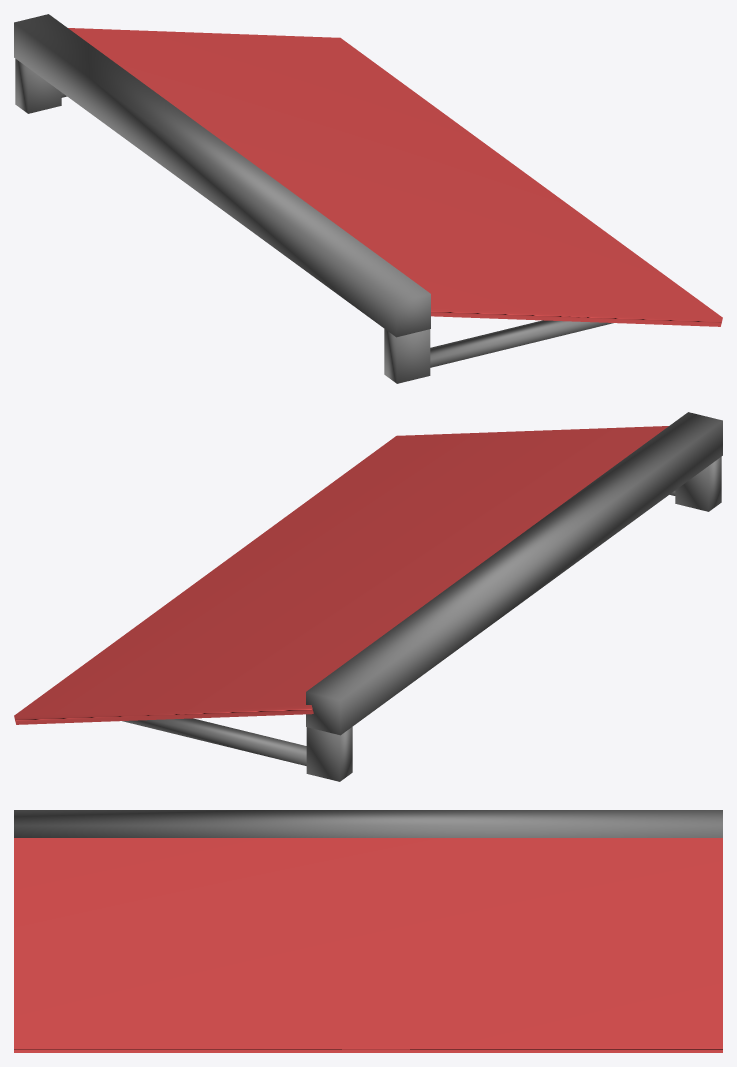
Rendered from awning.fbx.
3 views of the same model, one above another, from view 1: azimuth 30°, elevation 25°; view 2: azimuth 150°, elevation 25°; view 3: azimuth 270°, elevation 25° (orthographic). The views are drawn at different scales.
Parts seen in each view (by area): view 1: Cube.001, Cube.002; view 2: Cube.001, Cube.002; view 3: Cube.001, Cube.002.
Part boxes in pixels (left/top/right/bottom): Cube.001: left=68, top=28, right=722, bottom=326; Cube.002: left=14, top=14, right=613, bottom=383; Cube.001: left=14, top=426, right=668, bottom=724; Cube.002: left=122, top=412, right=722, bottom=781; Cube.001: left=14, top=838, right=722, bottom=1052; Cube.002: left=14, top=810, right=722, bottom=837.
Bounding box in the file's own units: 50.67 × 15.37 × 103.
